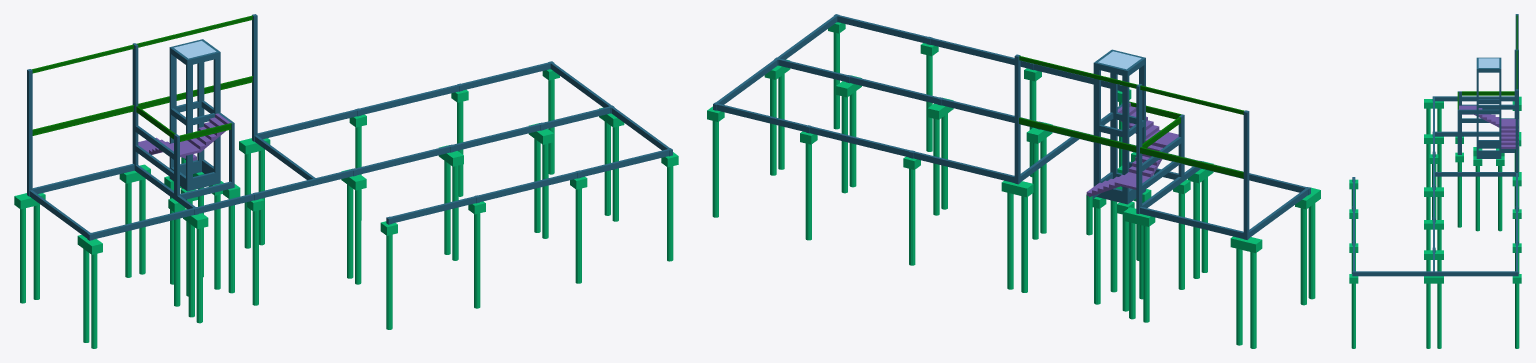
File: Modelo 3D.glb
3 views of the same model, side by side, from view 1: azimuth 30°, elevation 25°; view 2: azimuth 150°, elevation 25°; view 3: azimuth 270°, elevation 25° (orthographic). The views are drawn at different scales.
Parts seen in each view (by area): view 1: empty_117, empty_118, empty_115, empty_82, empty_74, empty_77, empty_76, empty_86, empty_79, empty_75, empty_87, empty_83 (+33 smaller); view 2: empty_117, empty_118, empty_115, empty_74, empty_77, empty_76, empty_29, empty_86, empty_8, empty_87, empty_75, empty_83 (+35 smaller); view 3: empty_117, empty_115, empty_92, empty_91, empty_118, empty_90, empty_88, empty_17, empty_18, empty_22, empty_27, empty_10 (+13 smaller).
Part boxes in pixels (x1=…): empty_117: x1=14, y1=69, x2=678, y2=254; empty_118: x1=32, y1=15, x2=253, y2=141; empty_115: x1=138, y1=113, x2=230, y2=160; empty_82: x1=92, y1=208, x2=194, y2=239; empty_74: x1=32, y1=164, x2=134, y2=193; empty_77: x1=257, y1=109, x2=357, y2=139; empty_76: x1=360, y1=84, x2=458, y2=115; empty_86: x1=478, y1=171, x2=577, y2=201; empty_79: x1=355, y1=145, x2=450, y2=175; empty_75: x1=461, y1=62, x2=550, y2=90; empty_87: x1=580, y1=149, x2=668, y2=177; empty_83: x1=453, y1=123, x2=540, y2=151; empty_117: x1=707, y1=22, x2=1320, y2=253; empty_118: x1=1019, y1=56, x2=1244, y2=178; empty_115: x1=1086, y1=102, x2=1178, y2=197; empty_74: x1=1140, y1=207, x2=1243, y2=238; empty_77: x1=913, y1=151, x2=1014, y2=182; empty_76: x1=810, y1=126, x2=910, y2=157; empty_29: x1=1308, y1=203, x2=1315, y2=299; empty_86: x1=930, y1=38, x2=1030, y2=68; empty_8: x1=1110, y1=200, x2=1117, y2=292; empty_87: x1=838, y1=15, x2=927, y2=43; empty_75: x1=717, y1=103, x2=806, y2=131; empty_83: x1=850, y1=76, x2=938, y2=104; empty_117: x1=1349, y1=96, x2=1521, y2=283; empty_115: x1=1459, y1=105, x2=1518, y2=148; empty_92: x1=1435, y1=271, x2=1515, y2=276; empty_91: x1=1355, y1=271, x2=1432, y2=276; empty_118: x1=1457, y1=15, x2=1517, y2=109; empty_90: x1=1434, y1=172, x2=1515, y2=176; empty_88: x1=1435, y1=96, x2=1514, y2=101; empty_17: x1=1437, y1=283, x2=1441, y2=348; empty_18: x1=1426, y1=283, x2=1430, y2=348; empty_22: x1=1351, y1=283, x2=1355, y2=348; empty_27: x1=1515, y1=283, x2=1519, y2=348; empty_10: x1=1457, y1=162, x2=1461, y2=227.
Size of the model in its own units: 29.28 by 12.25 by 11.76.
